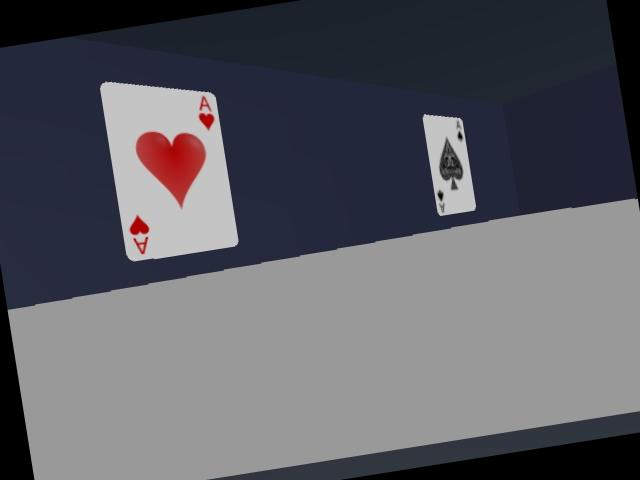heart: (100, 82, 237, 260)
spade: (423, 115, 475, 215)
